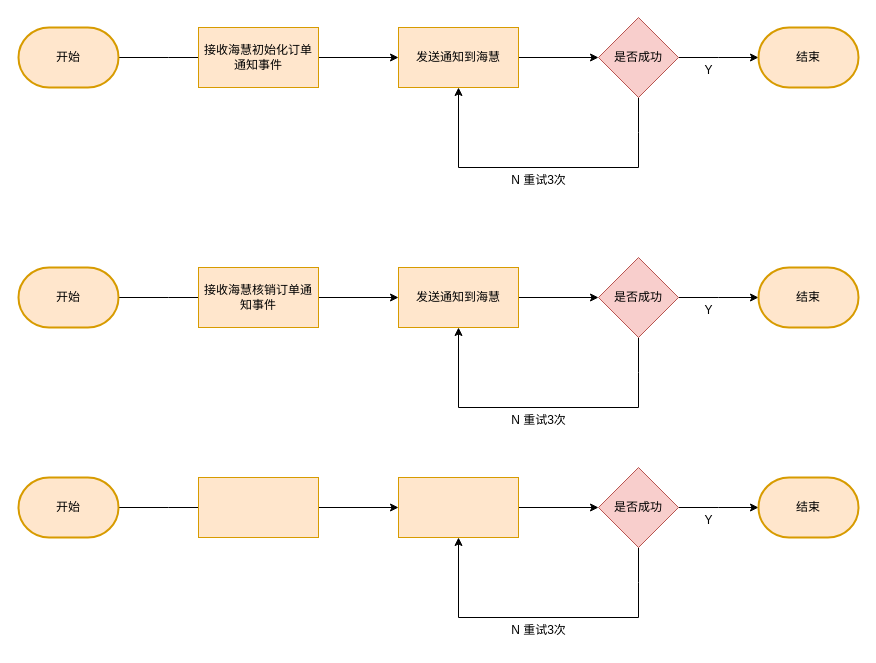
This 876x663 diagram has some shape labels left out. The centre of each missing label's shape, as x and y in pixels:
"发送通知到crm" belongs at point (458, 507).
"接收crm核销订单通知事件" belongs at point (258, 507).
